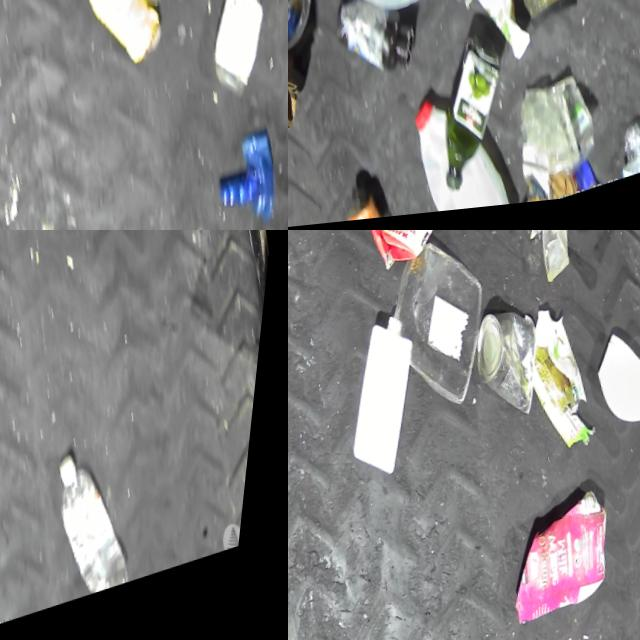can: (466, 307, 560, 438), (433, 0, 509, 25)
milk_jug: (326, 310, 449, 492), (411, 75, 539, 220)
non_white_jug: (345, 230, 476, 289)
plastic_bottle: (49, 447, 152, 614), (346, 161, 426, 225), (617, 114, 640, 189)
